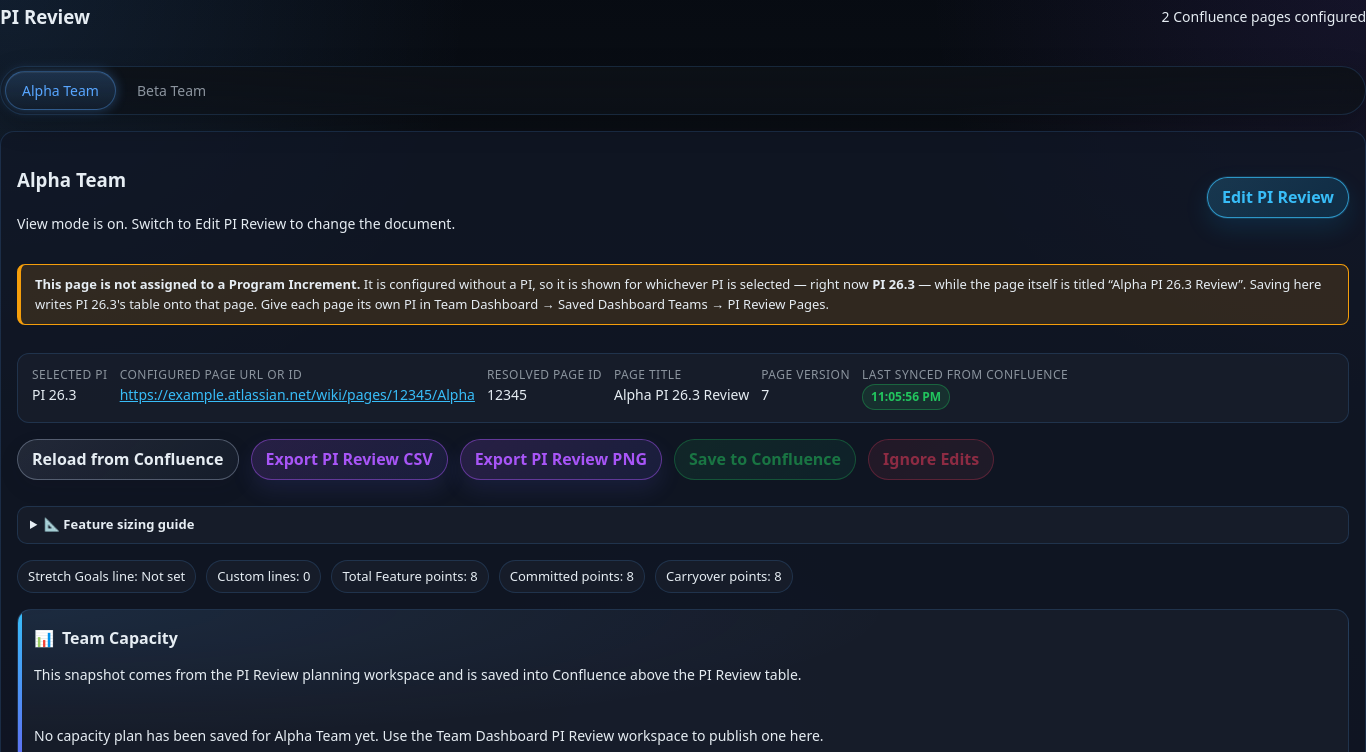
Test: PiReviewTab › auto-loads one Confluence page per configured team and switches between team tabs
Expected: the text "Committed points: 8" is shown, [499,560,645,593]
Click the tab "Beta Team". click: (172, 90)
box: [120,70,223,110]
(page scrolled)
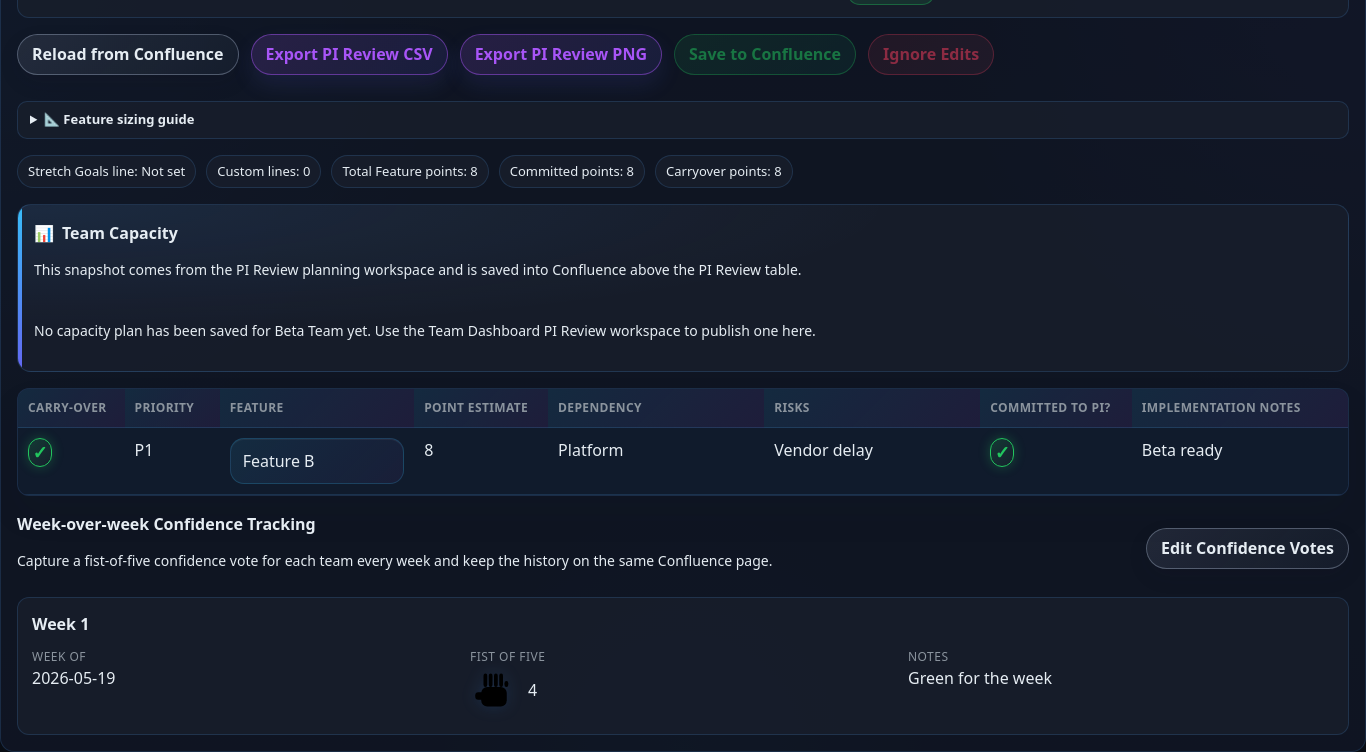
Result: the text "Feature B" is shown at [243,450,314,472]
